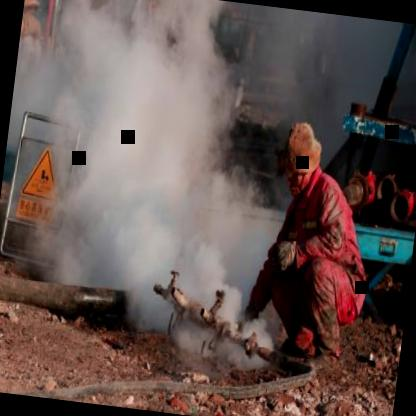helmet: (280, 118, 323, 190)
